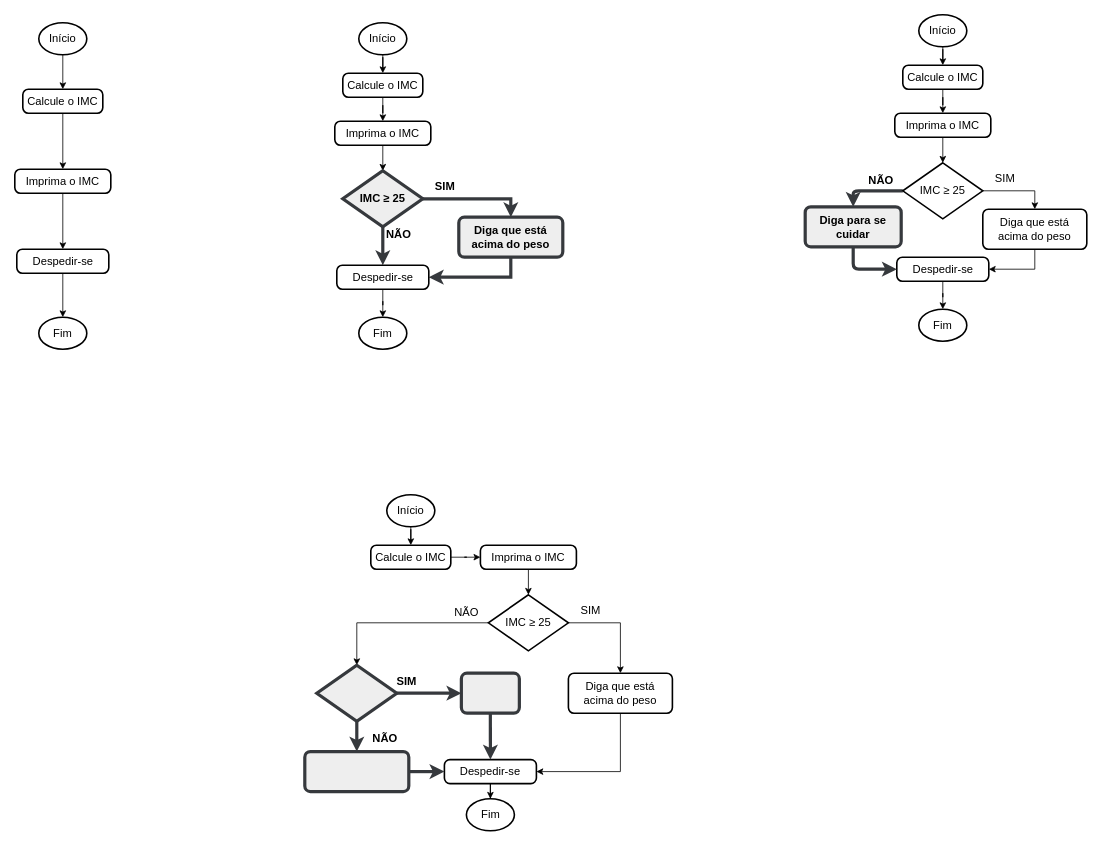
This 1101x845 diagram has some shape labels left out. The box of each missing label's shape, as (x1, y1, x2, y2) in pixels:
Diga que está abaixo do peso: (303, 750, 410, 793)
Elogie: (459, 671, 521, 714)
IMC ≥ 18.5: (315, 663, 398, 722)
